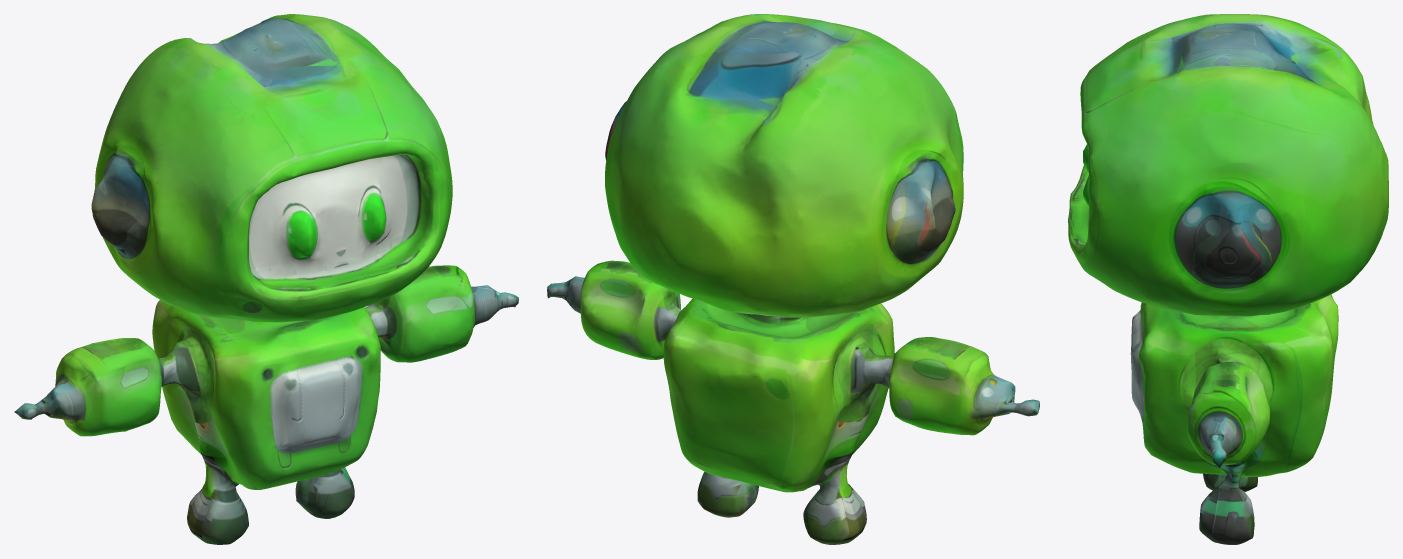
The model's file is create_cute_chibi_robot_with_green_energy_white_robot_cute_0606080132_refine.fbx.
3 views of the same model, side by side, from view 1: azimuth 30°, elevation 25°; view 2: azimuth 150°, elevation 25°; view 3: azimuth 270°, elevation 25° (orthographic). The views are drawn at different scales.
Parts seen in each view (by area): view 1: Mesh_0; view 2: Mesh_0; view 3: Mesh_0.
Part boxes in pixels (left/top/right/bottom): Mesh_0: left=14, top=14, right=518, bottom=544; Mesh_0: left=547, top=14, right=1039, bottom=544; Mesh_0: left=1068, top=14, right=1388, bottom=544.
Size of the model in its own units: 120 by 115 by 68.77.
Materials: 1 (1 with a texture image).
